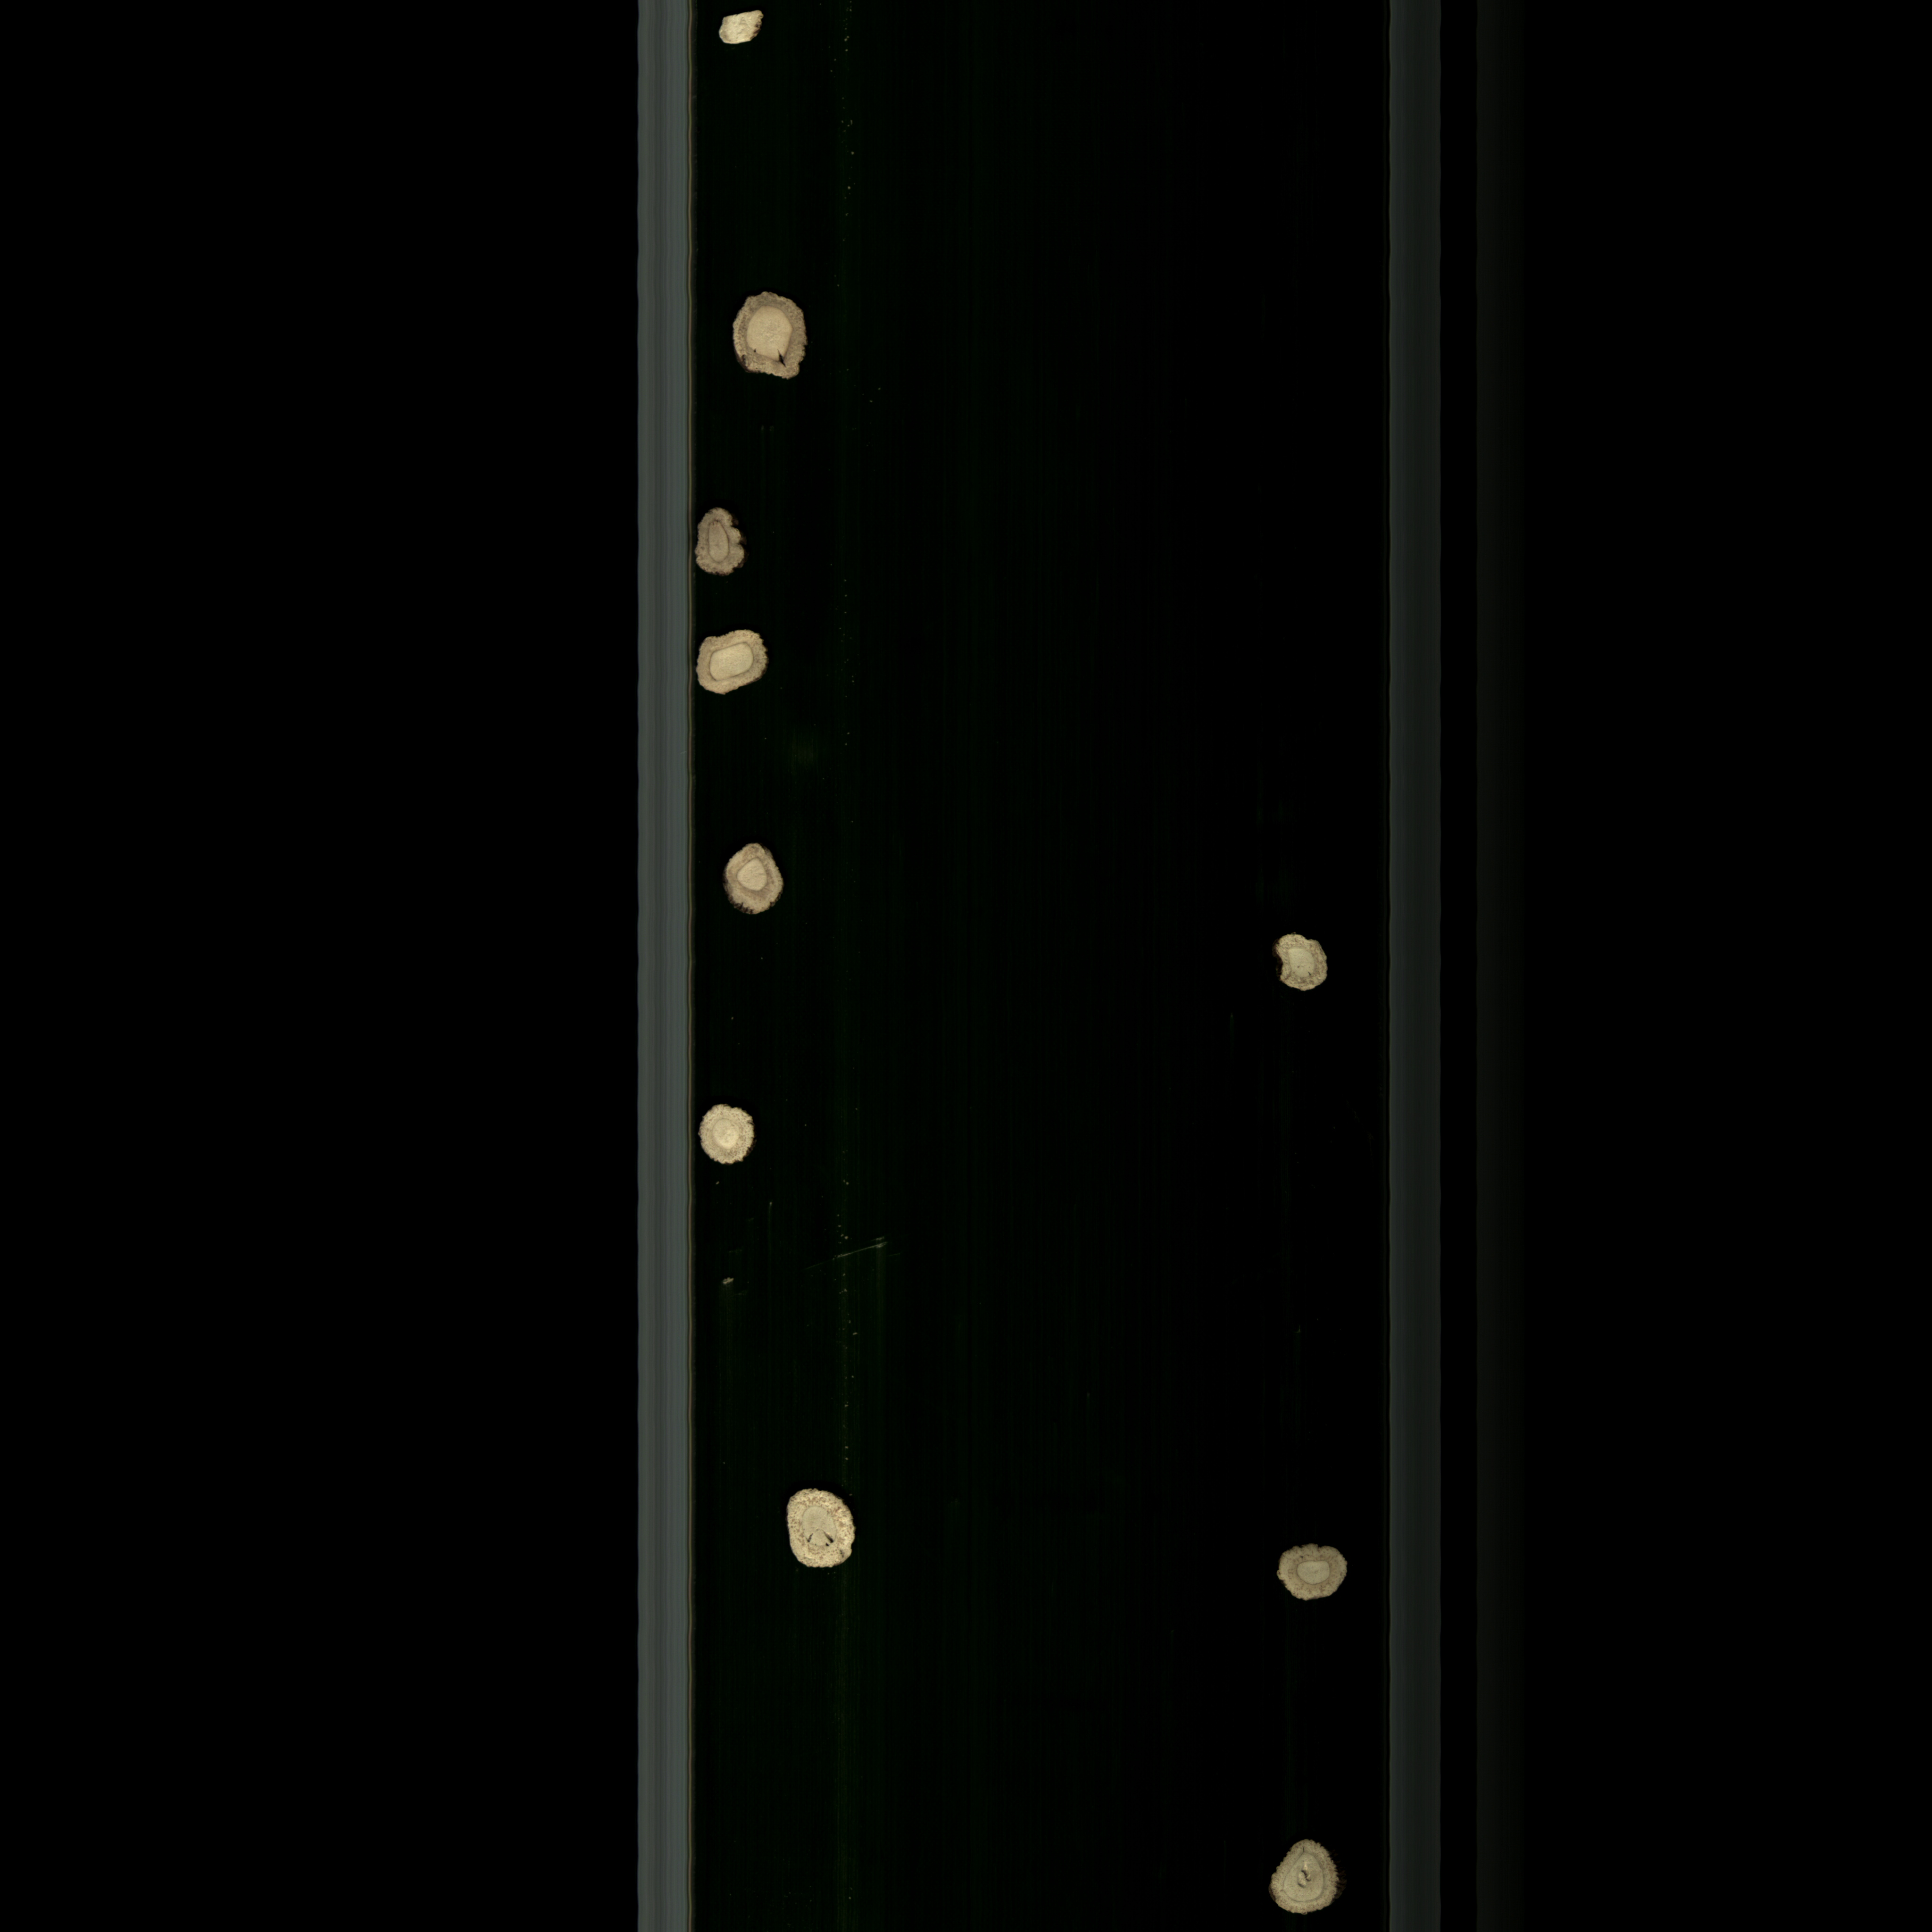distortion: (1263, 924, 1338, 1000), (683, 504, 754, 582)
dreg: (713, 4, 770, 58)
hole: (1260, 1833, 1345, 1920)
moldy: (729, 285, 828, 393), (768, 1486, 862, 1582), (1270, 1536, 1362, 1614)
